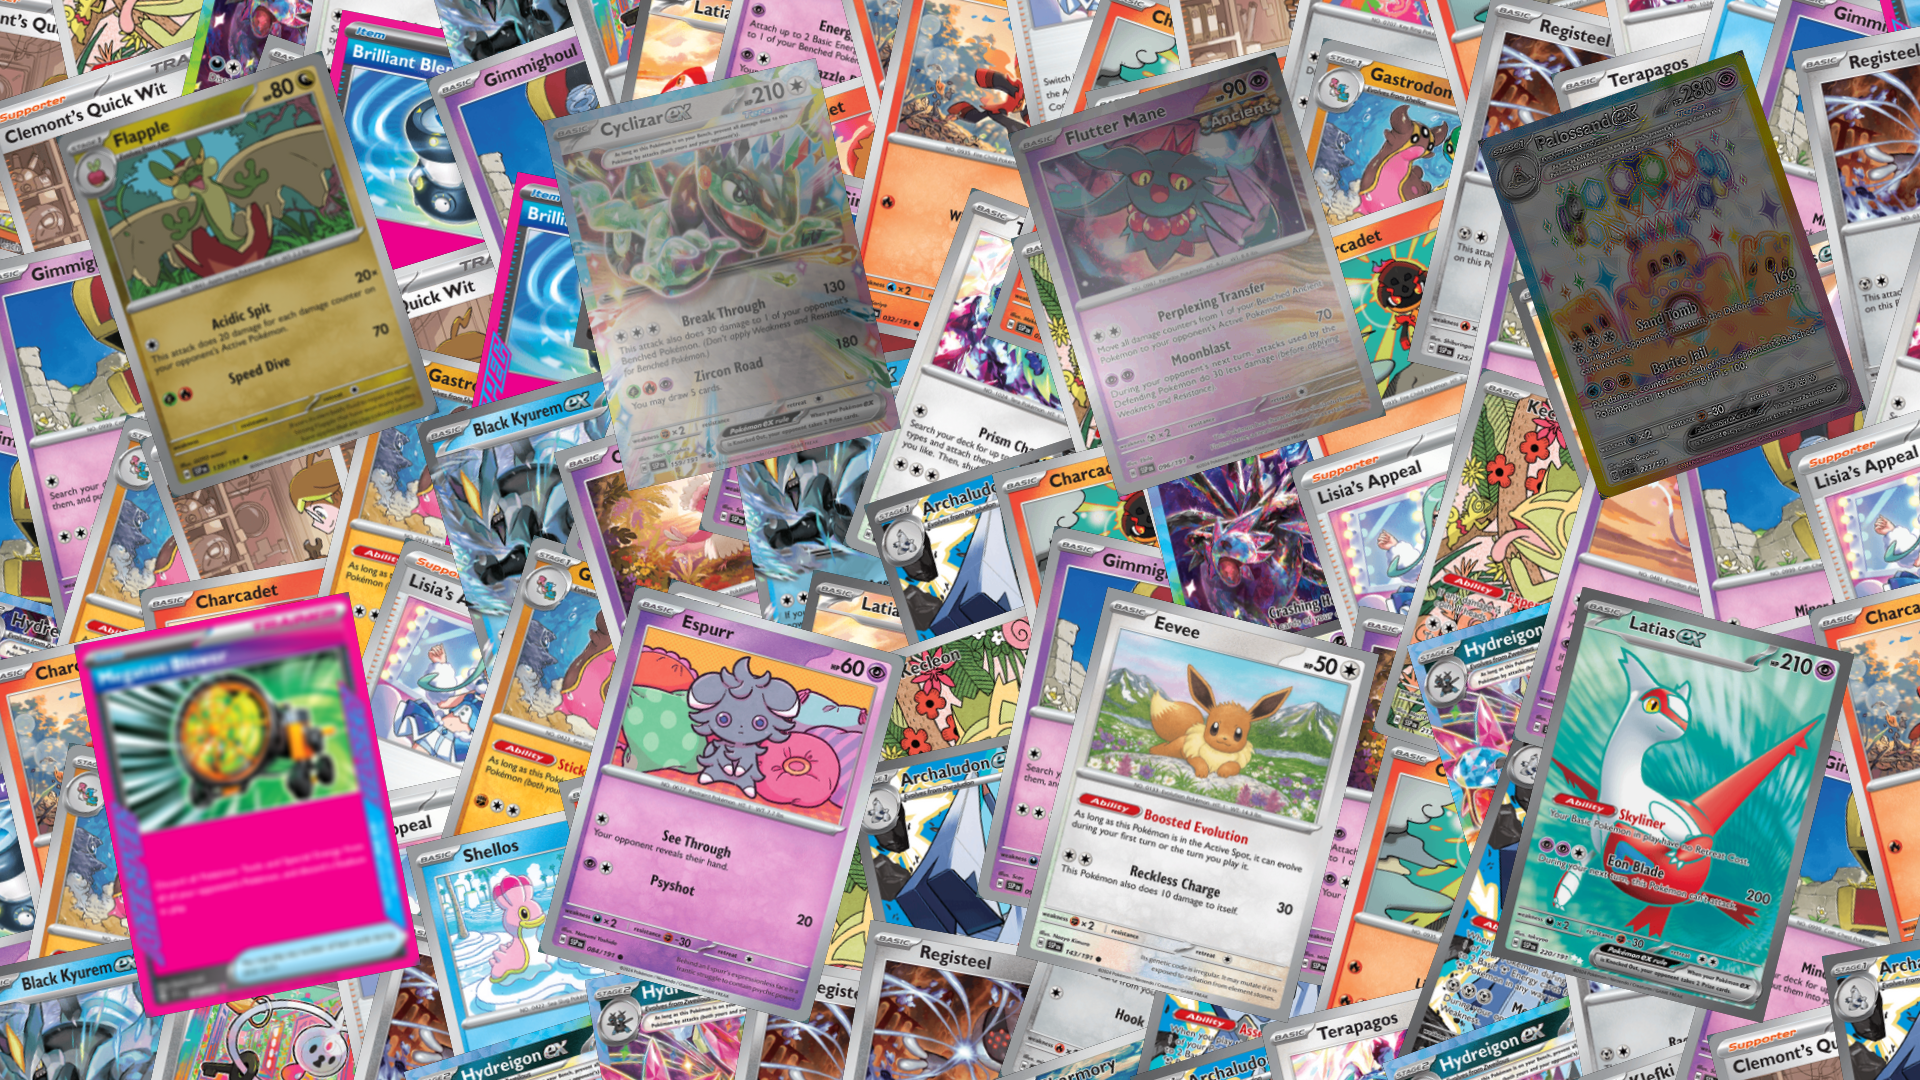Cyclizar_ex: (542, 57, 901, 491)
Eevee: (1015, 585, 1379, 1023)
Espurr: (537, 584, 906, 1025)
Flapple: (55, 50, 439, 498)
Flutter_Mane: (1007, 51, 1386, 497)
Latias_ex: (1490, 585, 1854, 1023)
Megaton_Blower: (73, 591, 421, 1018)
Palossand_ex: (1477, 49, 1866, 500)
